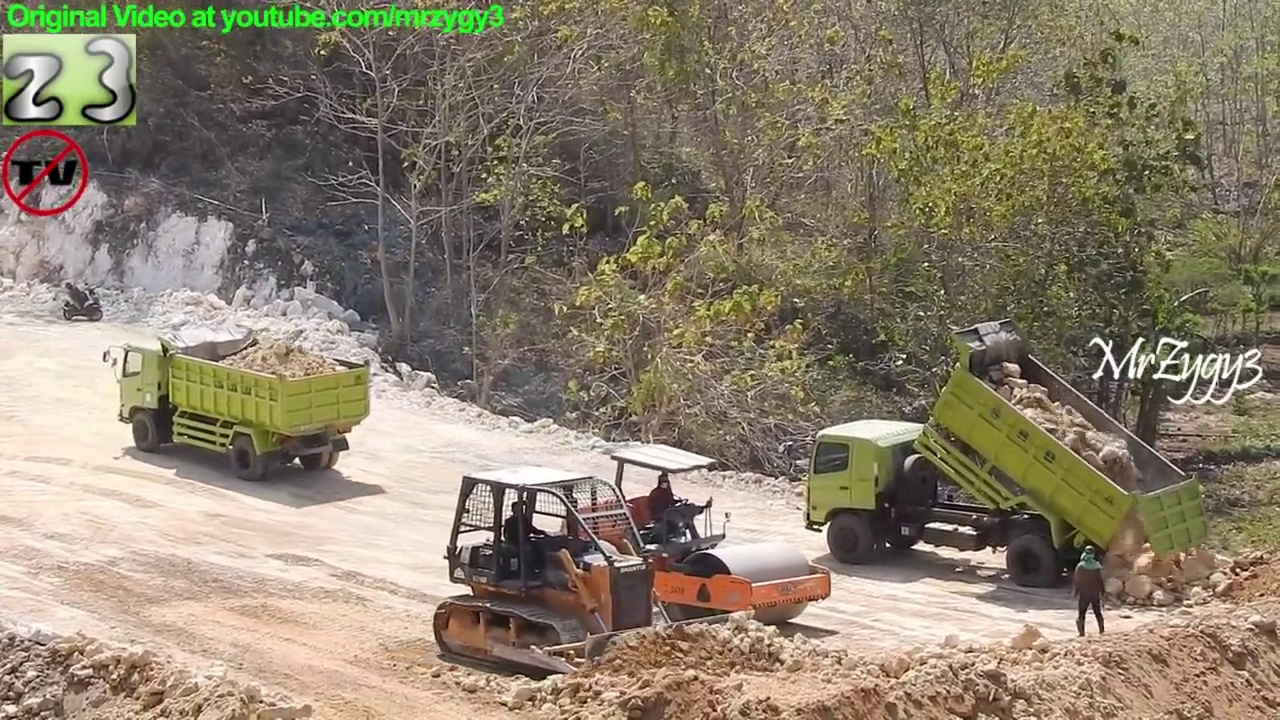bulldozer: (426, 464, 769, 689)
compactor: (557, 433, 837, 643)
truck: (789, 310, 1220, 598), (99, 323, 374, 483)
